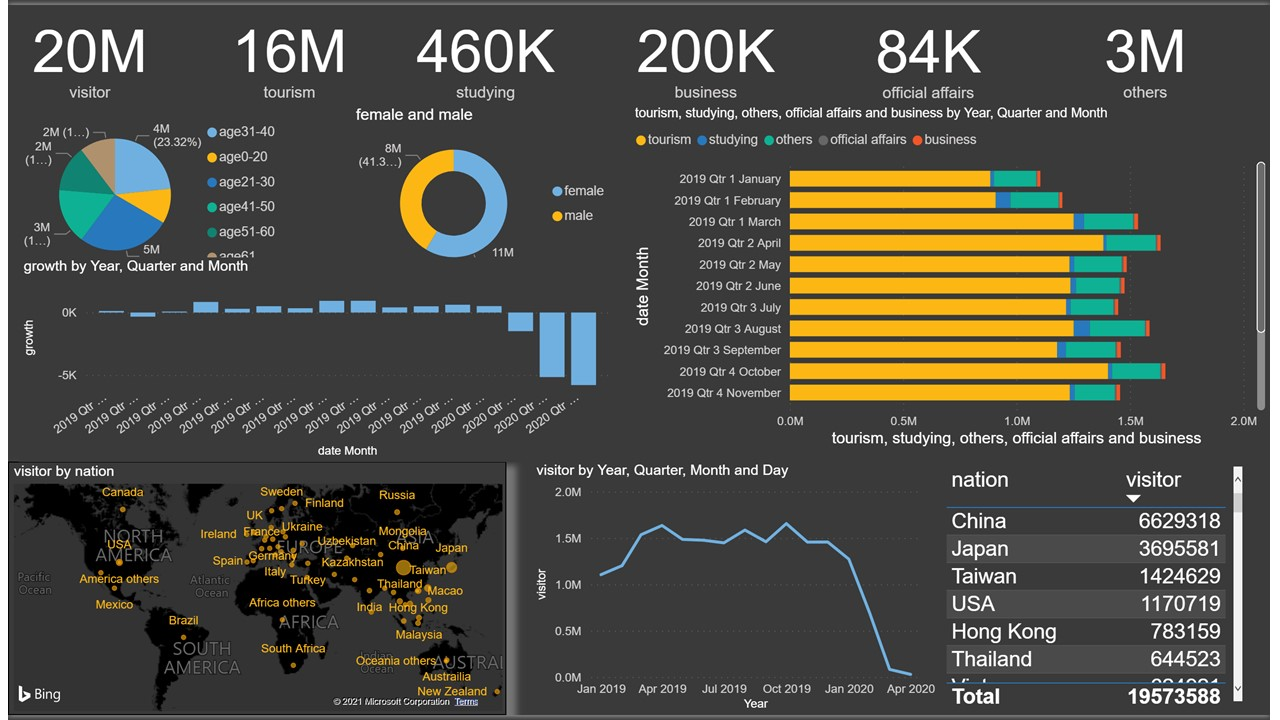

What the dashboard file says about the page in this screenshot:
{"tool":"powerbi","page":{"name":"Page 1","canvas":[1280,720],"ordinal":0},"visuals":[{"type":"card","fields":{"Values":["Sum(info.visitor)"]},"box":[0,0,166.2,102.2],"z":0},{"type":"card","fields":{"Values":["Sum(Enter_korea_by_purpose.tourism)"]},"box":[186,0,198.8,102.2],"z":1000},{"type":"card","fields":{"Values":["Sum(Enter_korea_by_purpose.studying)"]},"box":[384.9,0,198.8,102.2],"z":2000},{"type":"card","fields":{"Values":["Sum(Enter_korea_by_purpose.official affairs)"]},"box":[833.6,1.4,198.8,100.8],"z":3000},{"type":"card","fields":{"Values":["Sum(Enter_korea_by_purpose.others)"]},"box":[1052.3,0,203.1,102.2],"z":4000},{"type":"card","fields":{"Values":["Sum(Enter_korea_by_purpose.business)"]},"box":[603.6,0,207.3,102.2],"z":5000},{"type":"donutChart","fields":{"Y":["Sum(Enter_korea_by_gender.female)","Sum(Enter_korea_by_gender.male)"]},"box":[347.9,102.2,271.2,180.4],"z":6000},{"type":"tableEx","fields":{"Values":["info.nation","Sum(info.visitor)"]},"box":[945.8,463,311,257],"z":7000},{"type":"map","fields":{"Size":["Sum(info.visitor)"],"Category":["info.nation"]},"box":[0,463,505.6,257],"z":8000},{"type":"pieChart","fields":{"Y":["Sum(Enter_korea_by_age.age31-40)","Sum(Enter_korea_by_age.age0-20)","Sum(Enter_korea_by_age.age21-30)","Sum(Enter_korea_by_age.age41-50)","Sum(Enter_korea_by_age.age51-60)","Sum(Enter_korea_by_age.age61)"]},"box":[11.4,102.2,274.1,180.4],"z":9000},{"type":"lineChart","fields":{"Y":["Sum(info.visitor)"],"Category":["Enter_korea_by_purpose.date.Variation.Date Hierarchy.Year","Enter_korea_by_purpose.date.Variation.Date Hierarchy.Quarter","Enter_korea_by_purpose.date.Variation.Date Hierarchy.Month","Enter_korea_by_purpose.date.Variation.Date Hierarchy.Day"]},"box":[531.1,463,414.7,257],"z":10000},{"type":"columnChart","fields":{"Category":["Enter_korea_by_age.date.Variation.Date Hierarchy.Year","Enter_korea_by_age.date.Variation.Date Hierarchy.Quarter","Enter_korea_by_age.date.Variation.Date Hierarchy.Month","Enter_korea_by_age.date.Variation.Date Hierarchy.Day"],"Y":["Sum(info.growth)"]},"box":[11.4,255.6,603.6,207.3],"z":11000},{"type":"barChart","fields":{"Category":["Enter_korea_by_gender.date.Variation.Date Hierarchy.Year","Enter_korea_by_gender.date.Variation.Date Hierarchy.Quarter","Enter_korea_by_gender.date.Variation.Date Hierarchy.Month","Enter_korea_by_gender.date.Variation.Date Hierarchy.Day"],"Y":["Sum(Enter_korea_by_purpose.tourism)","Sum(Enter_korea_by_purpose.studying)","Sum(Enter_korea_by_purpose.others)","Sum(Enter_korea_by_purpose.official affairs)","Sum(Enter_korea_by_purpose.business)"]},"box":[630.5,102.2,649,350.8],"z":12000}]}

Visuals, with their boxes in screenshot pixels (x1, y1, x2, y2), scaled from the page's 1280x720 canvas onto the 1280x720 screenshot:
card - Sum(info.visitor): select_region(0, 0, 166, 102)
card - Sum(Enter_korea_by_purpose.tourism): select_region(186, 0, 385, 102)
card - Sum(Enter_korea_by_purpose.studying): select_region(385, 0, 584, 102)
card - Sum(Enter_korea_by_purpose.official affairs): select_region(834, 1, 1032, 102)
card - Sum(Enter_korea_by_purpose.others): select_region(1052, 0, 1255, 102)
card - Sum(Enter_korea_by_purpose.business): select_region(604, 0, 811, 102)
donutChart - Sum(Enter_korea_by_gender.female) x Sum(Enter_korea_by_gender.male): select_region(348, 102, 619, 283)
tableEx - info.nation x Sum(info.visitor): select_region(946, 463, 1257, 719)
map - Sum(info.visitor) x info.nation: select_region(0, 463, 506, 719)
pieChart - Sum(Enter_korea_by_age.age31-40) x Sum(Enter_korea_by_age.age0-20): select_region(11, 102, 286, 283)
lineChart - Sum(info.visitor) x Enter_korea_by_purpose.date.Variation.Date Hierarchy.Year: select_region(531, 463, 946, 719)
columnChart - Enter_korea_by_age.date.Variation.Date Hierarchy.Year x Enter_korea_by_age.date.Variation.Date Hierarchy.Quarter: select_region(11, 256, 615, 463)
barChart - Enter_korea_by_gender.date.Variation.Date Hierarchy.Year x Enter_korea_by_gender.date.Variation.Date Hierarchy.Quarter: select_region(630, 102, 1279, 453)
